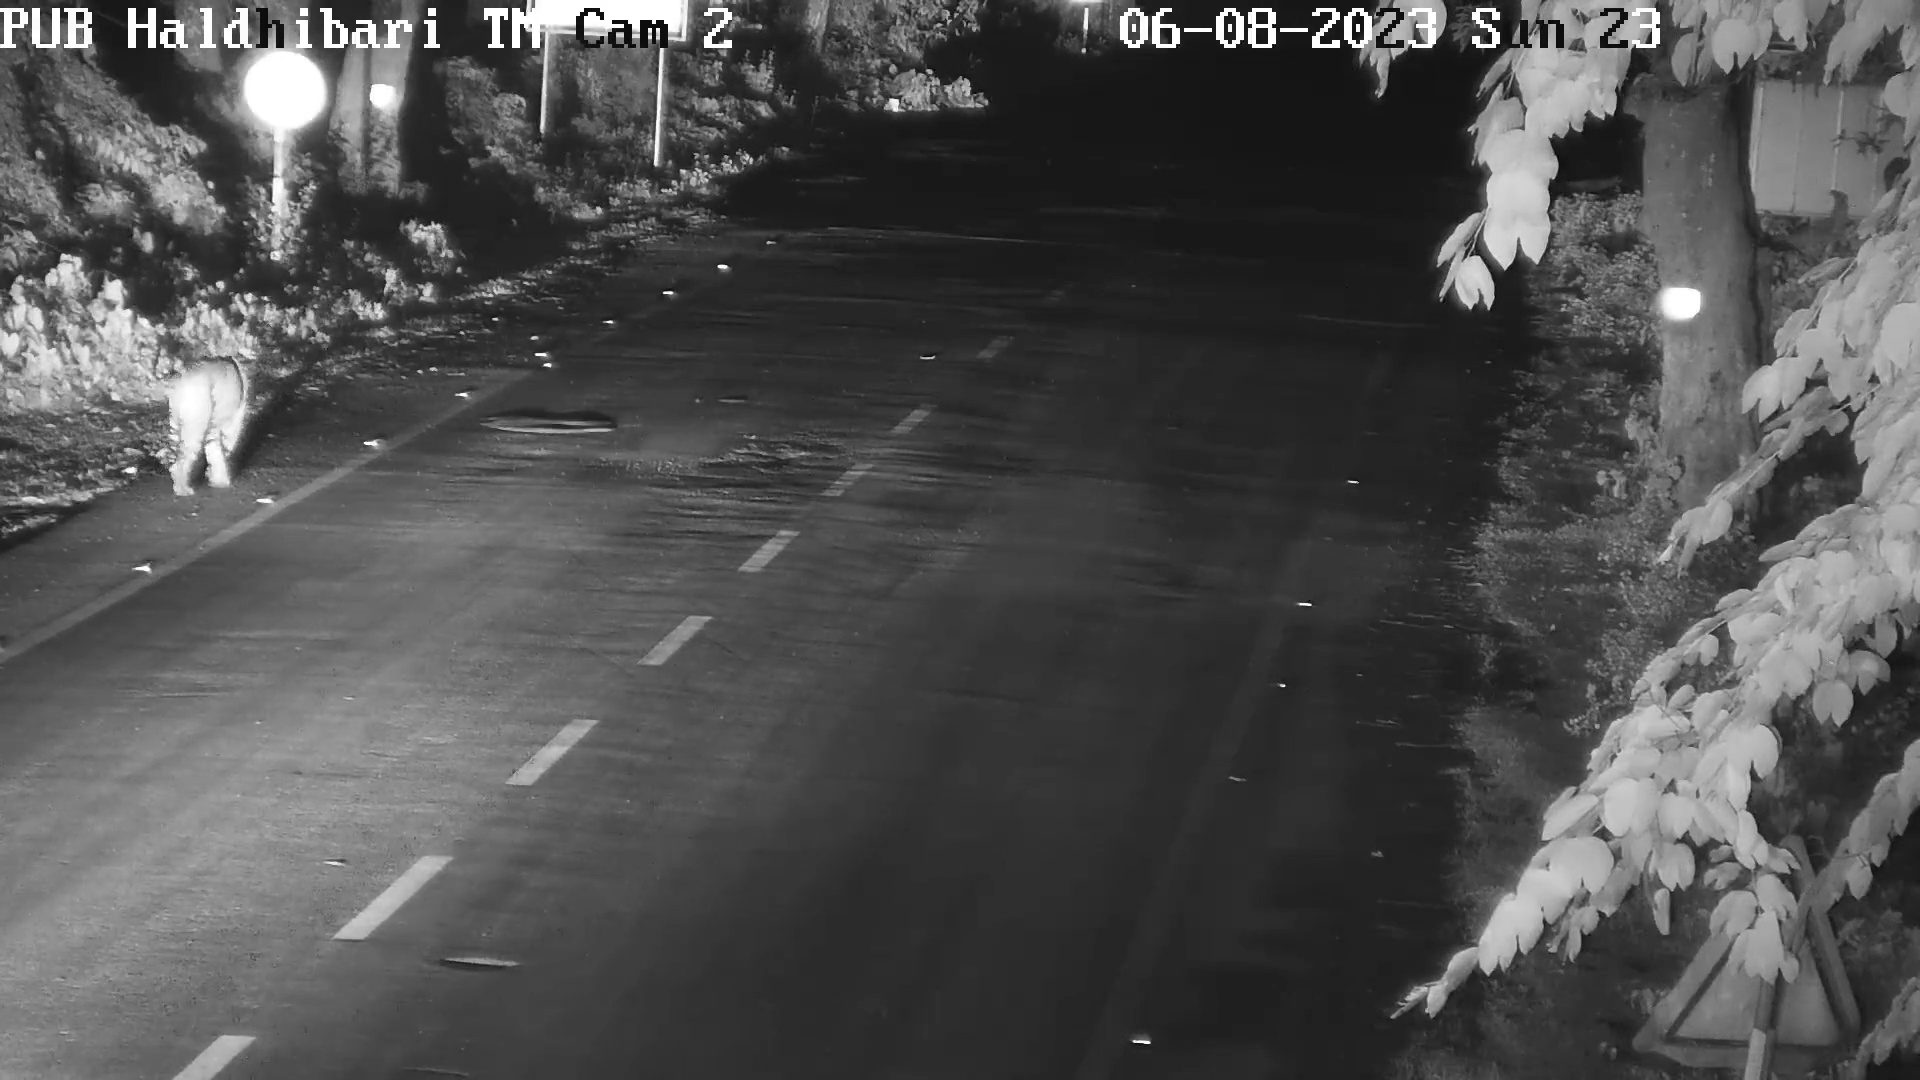tigers: (164, 348, 247, 495)
